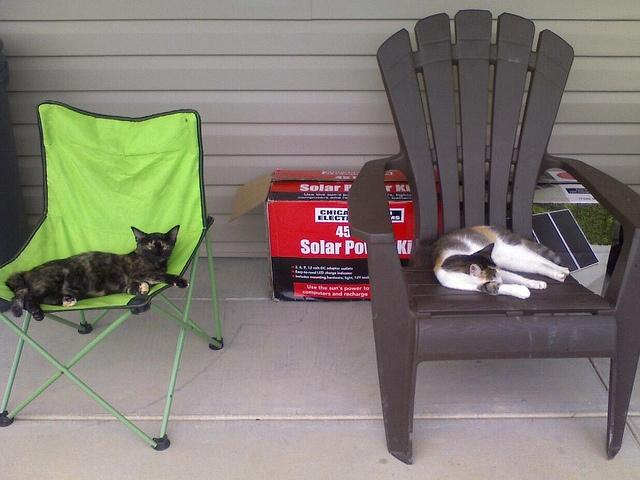Kursi: (344, 7, 639, 465)
